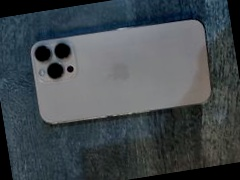iphone: (14, 18, 203, 133)
